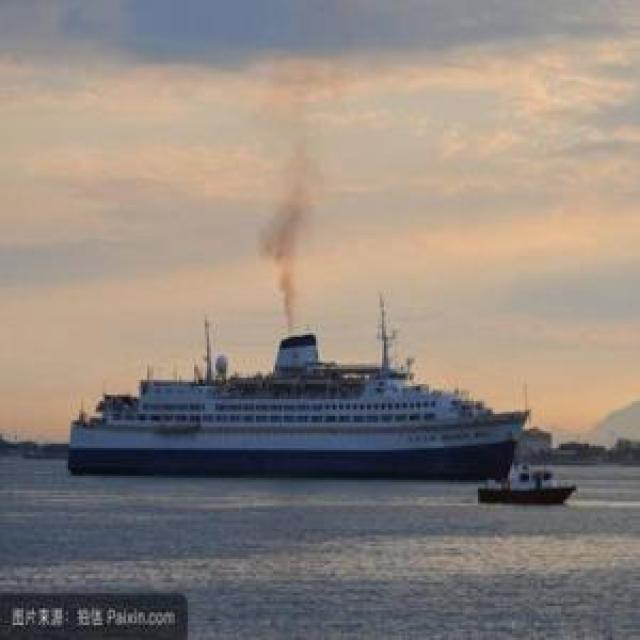houseboat: (471, 454, 576, 507)
passenger ship: (67, 321, 516, 484)
